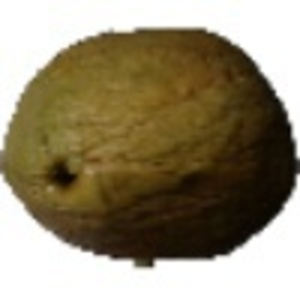mamão: (6, 14, 291, 269)
